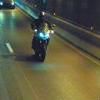Motorcycle: (25, 16, 59, 69)
